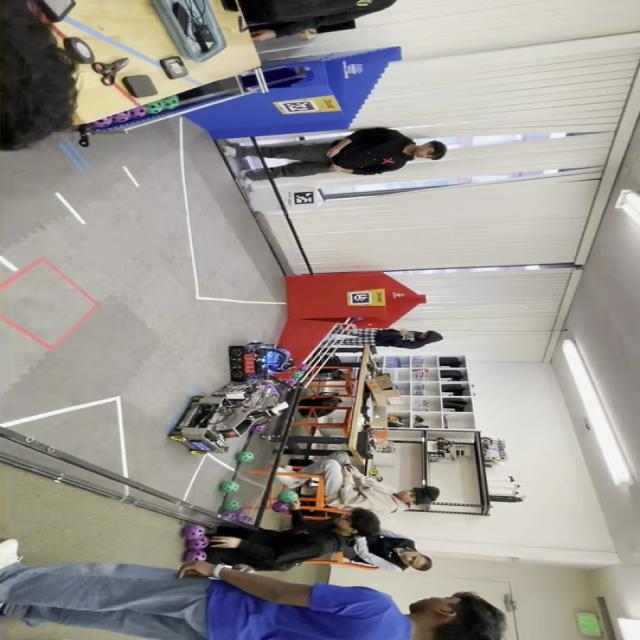artifact_green: (278, 490, 298, 503), (219, 481, 240, 493), (146, 101, 165, 114), (235, 451, 254, 462), (222, 500, 241, 511), (162, 96, 178, 109), (220, 511, 240, 521), (238, 513, 254, 524), (369, 469, 379, 476)
artifact_purple: (182, 525, 206, 539), (183, 550, 207, 562), (187, 537, 209, 550), (128, 106, 146, 119), (222, 499, 241, 511), (92, 117, 112, 128), (112, 111, 130, 123), (272, 501, 290, 513), (220, 512, 239, 520), (252, 423, 267, 433), (238, 514, 253, 524), (281, 380, 298, 387), (299, 364, 309, 371), (264, 382, 274, 389)
